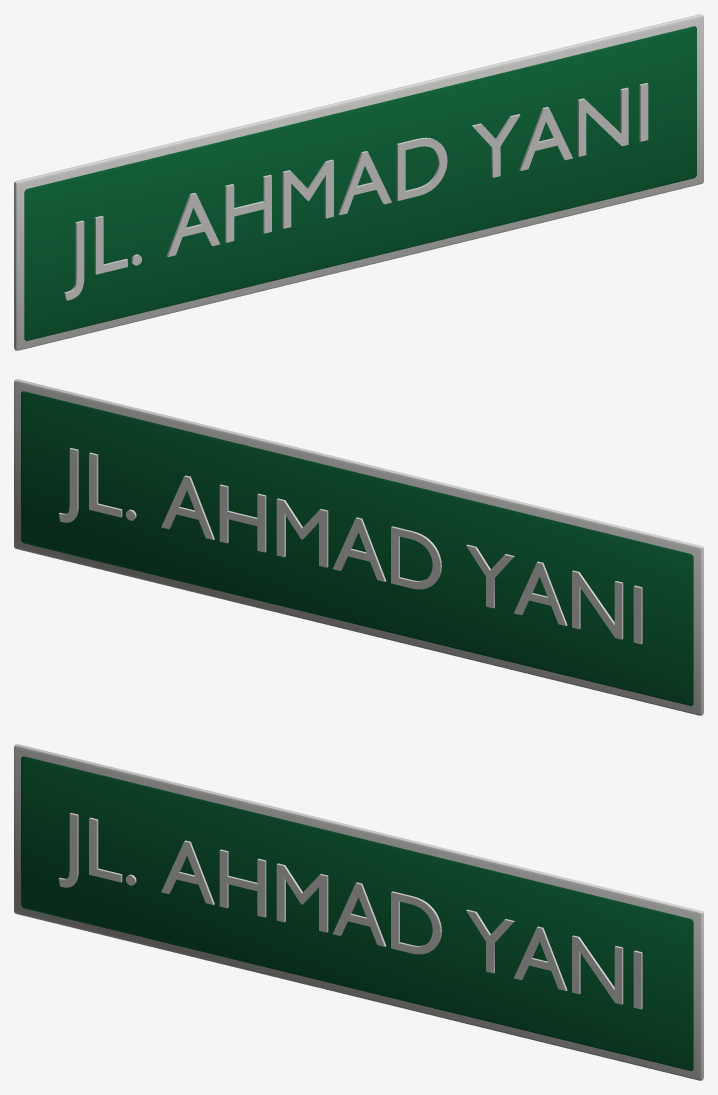
File: StreetName_ahmadyani.fbx
3 views of the same model, one above another, from view 1: azimuth 30°, elevation 25°; view 2: azimuth 150°, elevation 25°; view 3: azimuth 330°, elevation 25° (orthographic).
Parts seen in each view (by area): view 1: StreetName_ahmadyani_Mesh; view 2: StreetName_ahmadyani_Mesh; view 3: StreetName_ahmadyani_Mesh.
Boxes of the visible parts, <box> form: StreetName_ahmadyani_Mesh: <box>14,14,703,350</box>; StreetName_ahmadyani_Mesh: <box>14,379,703,715</box>; StreetName_ahmadyani_Mesh: <box>14,744,703,1080</box>.
Bounding box in the file's own units: 1.49 × 0.35 × 0.026.
